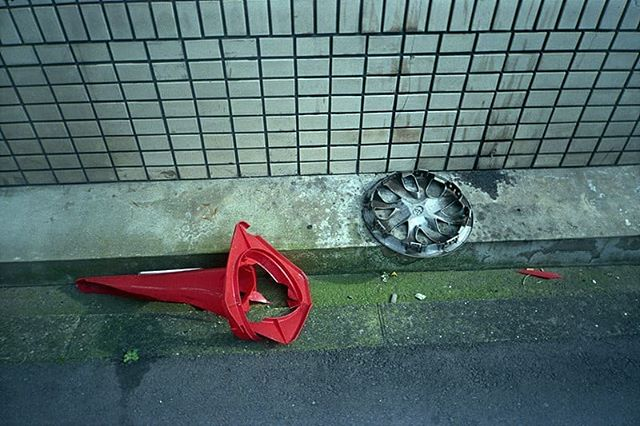traffic cone: (56, 221, 347, 356)
